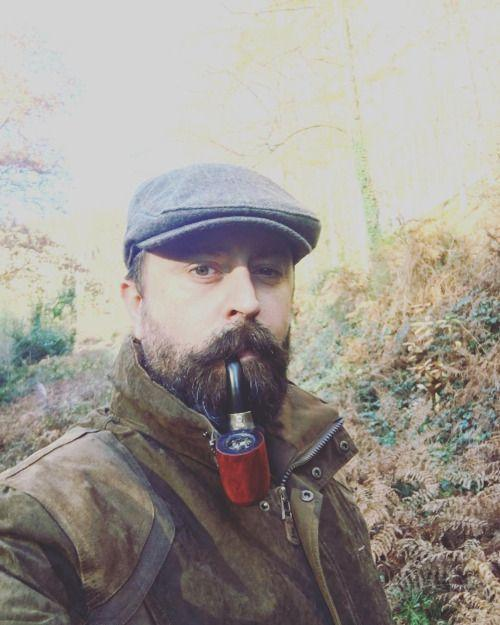trubka: (214, 362, 269, 504)
